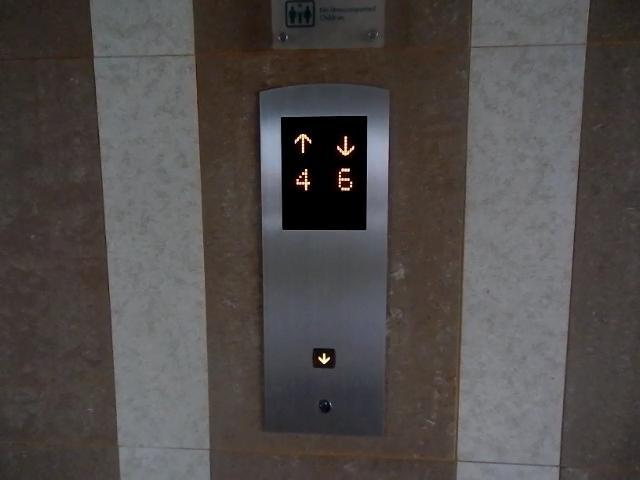down: (309, 344, 335, 369)
led: (276, 112, 369, 233)
unknown: (315, 396, 331, 412)
